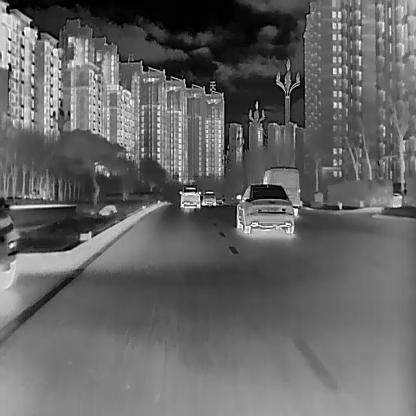car: (235, 181, 295, 234), (263, 164, 301, 215), (176, 184, 202, 209), (201, 189, 216, 205)
